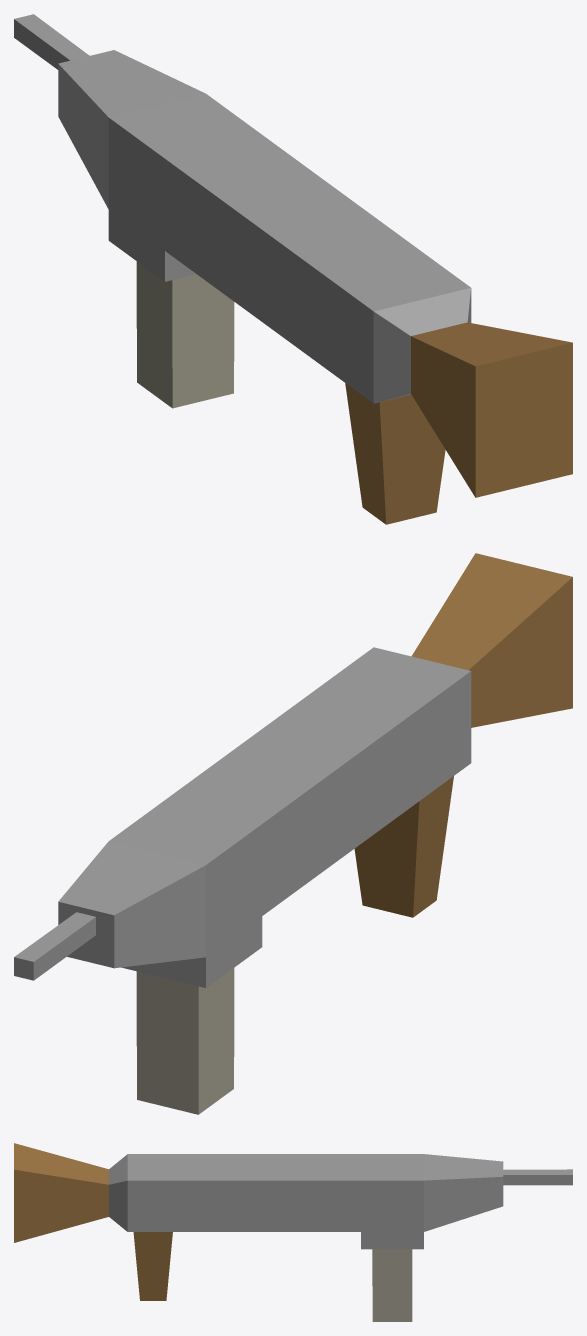
Rendered from MachinePistol1.fbx.
3 renders of one model, top to bottom at view 1: azimuth 30°, elevation 25°; view 2: azimuth 150°, elevation 25°; view 3: azimuth 270°, elevation 25°, orthographic. The views are drawn at different scales.
Parts seen in each view (by area): view 1: Cube; view 2: Cube; view 3: Cube.
Boxes of the visible parts, x1,y1,x2,y2 form: Cube: (14,14,572,524); Cube: (14,553,572,1114); Cube: (14,1143,572,1321).
Bounding box in the file's own units: 200 × 552 × 1779.
